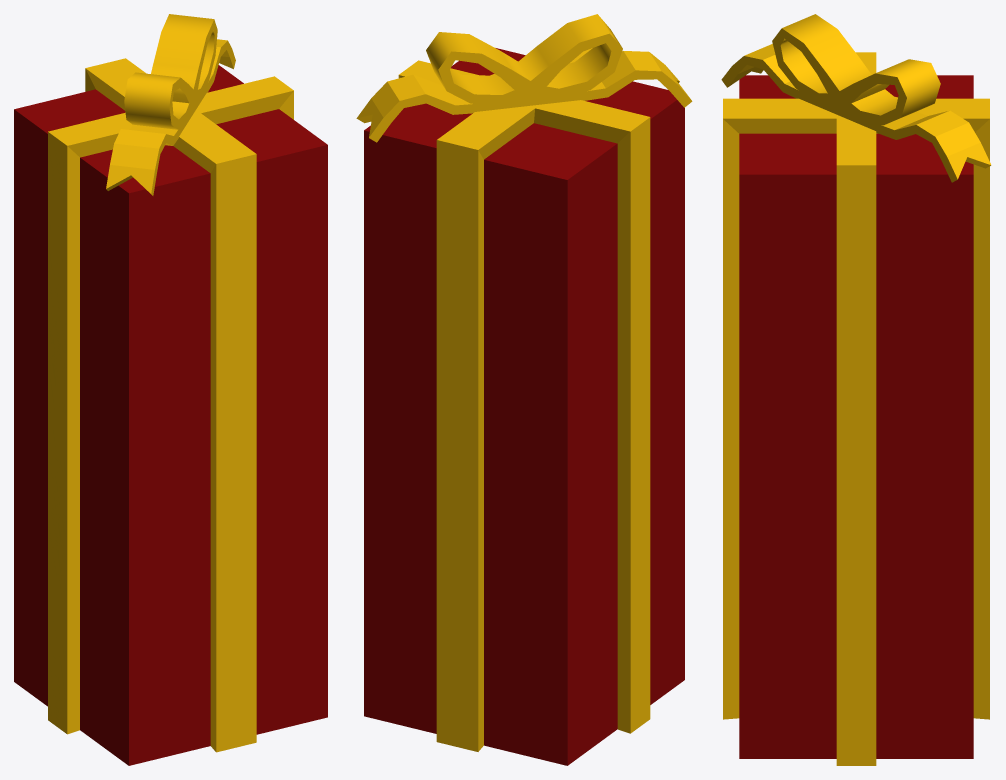
Rendered from Presents5.fbx.
3 views of the same model, side by side, from view 1: azimuth 30°, elevation 25°; view 2: azimuth 150°, elevation 25°; view 3: azimuth 270°, elevation 25° (orthographic). The views are drawn at different scales.
Parts seen in each view (by area): view 1: Present5; view 2: Present5; view 3: Present5.
Boxes of the visible parts, x1=… form: Present5: x1=14, y1=14, x2=327, y2=765; Present5: x1=356, y1=14, x2=692, y2=765; Present5: x1=721, y1=14, x2=991, y2=765.
Size of the model in its own units: 46.08 by 125 by 46.08.
